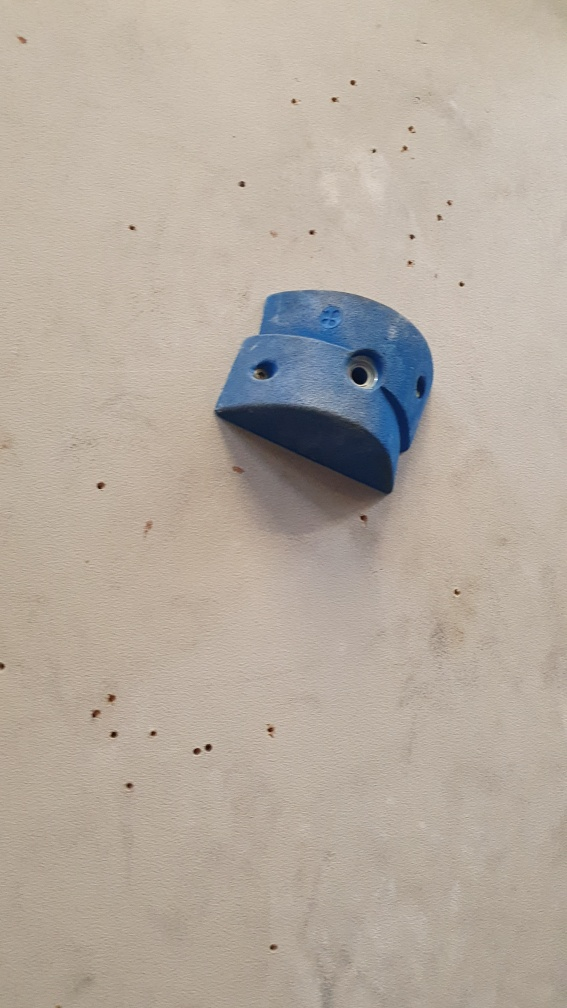Pinch: (213, 289, 433, 496)
